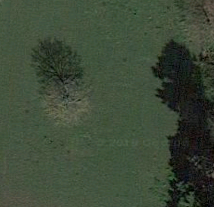tree: (30, 61, 97, 130)
